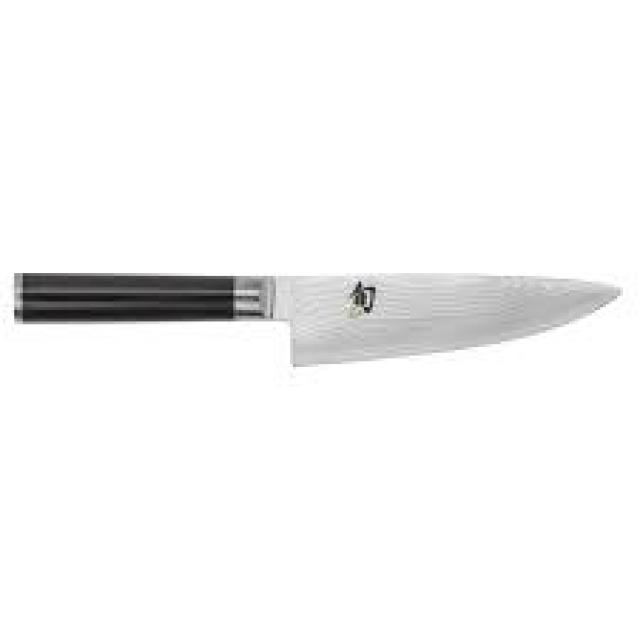knife: (10, 269, 626, 374)
